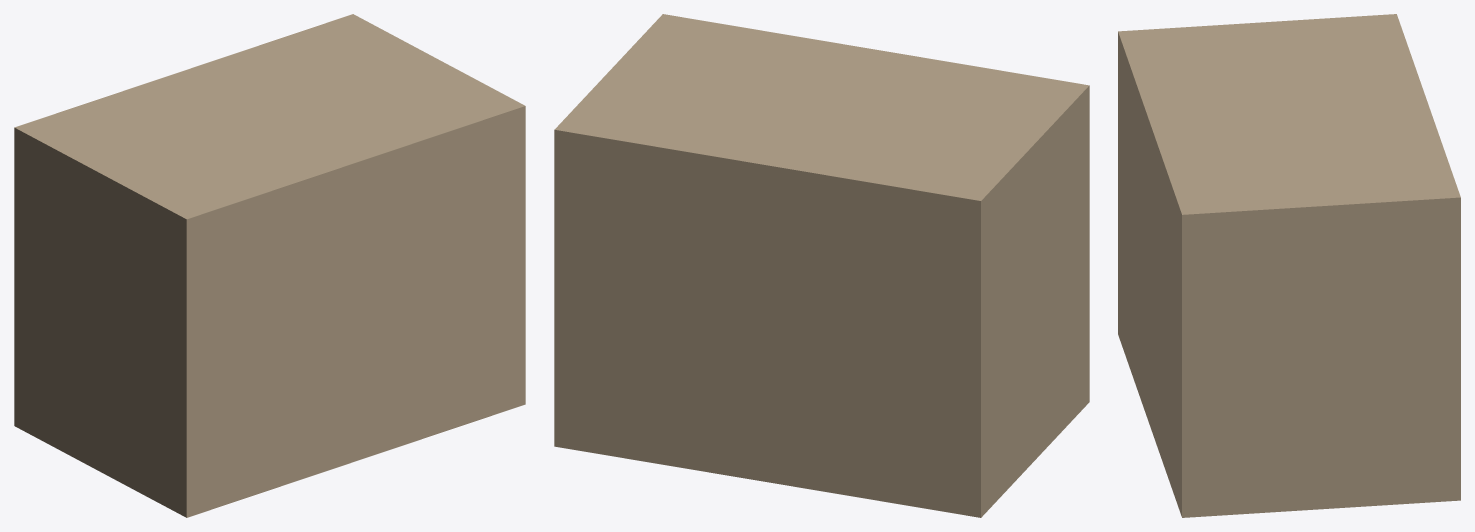
The model's file is bld_101562407.dae.
3 renders of one model, left to right at view 1: azimuth 30°, elevation 25°; view 2: azimuth 150°, elevation 25°; view 3: azimuth 270°, elevation 25°, orthographic. The views are drawn at different scales.
Visible parts, largest first — view 1: bld_101562407; view 2: bld_101562407; view 3: bld_101562407.
Boxes of the visible parts, x1,y1,x2,y2 form: bld_101562407: (14,14,525,517); bld_101562407: (554,14,1089,517); bld_101562407: (1118,14,1460,517).
Size of the model in its own units: 11.37 by 8.2 by 8.
